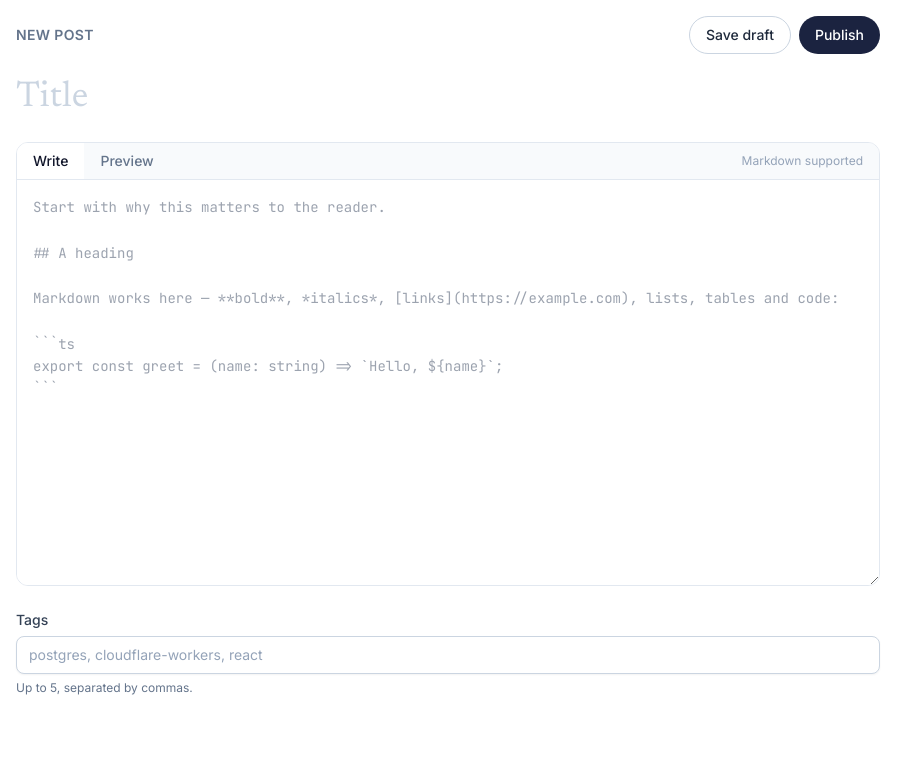
Scenario: Editor › validates before sending anything
This screenshot has width=897, height=760.
Click the button "Publish": (839, 35) [799, 16, 880, 54]
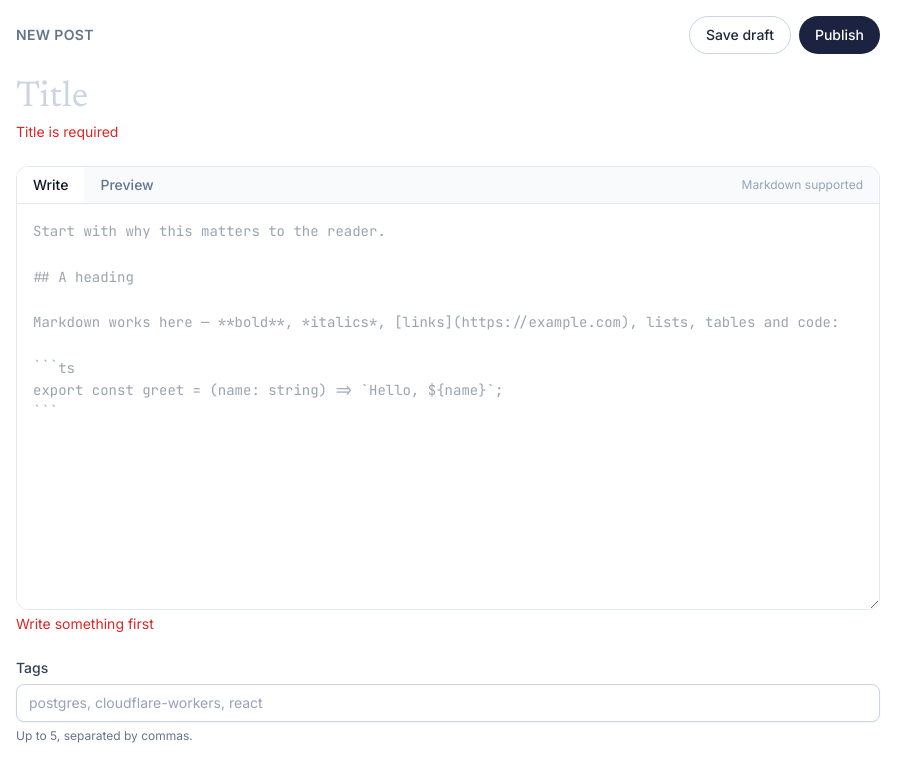
Result: the text "Title is required" is shown at [16, 123, 118, 140]
